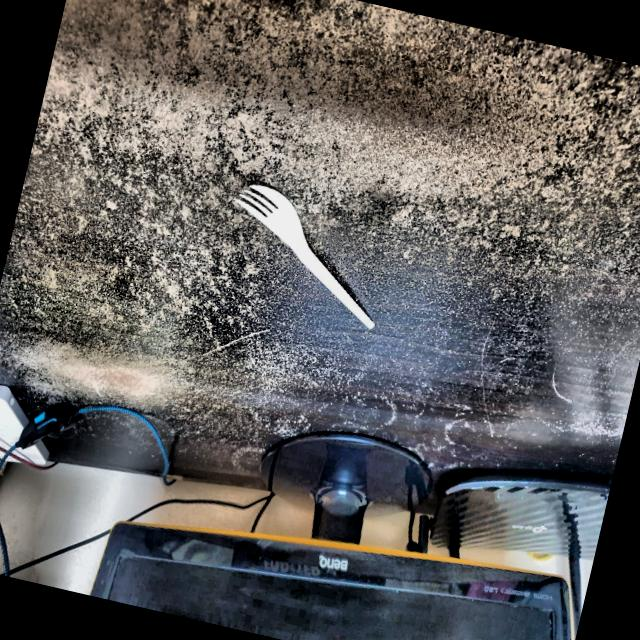plastic utensil: (210, 168, 407, 337)
